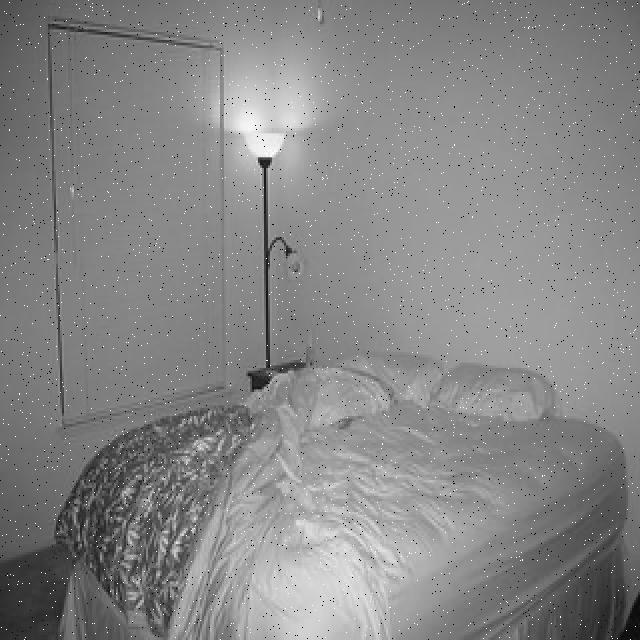bed: (70, 361, 630, 640)
